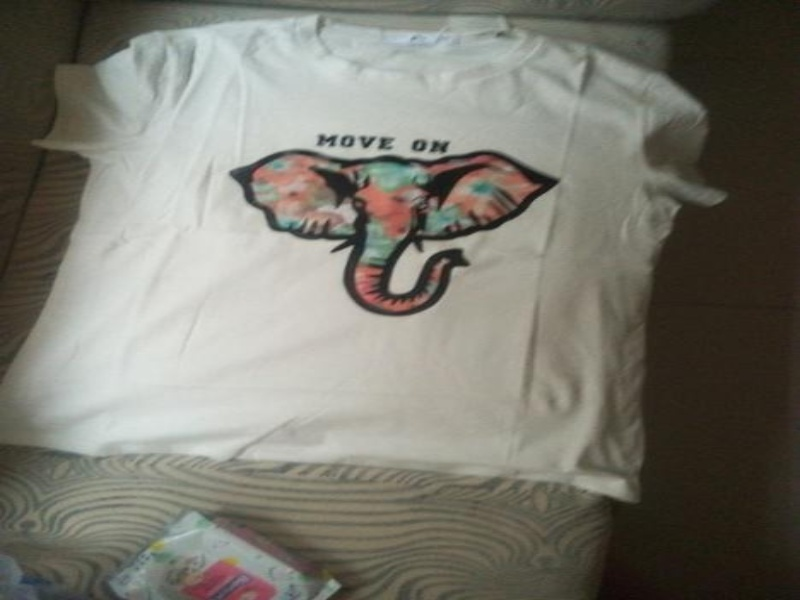short_sleeved_shirt: (0, 0, 718, 512)
